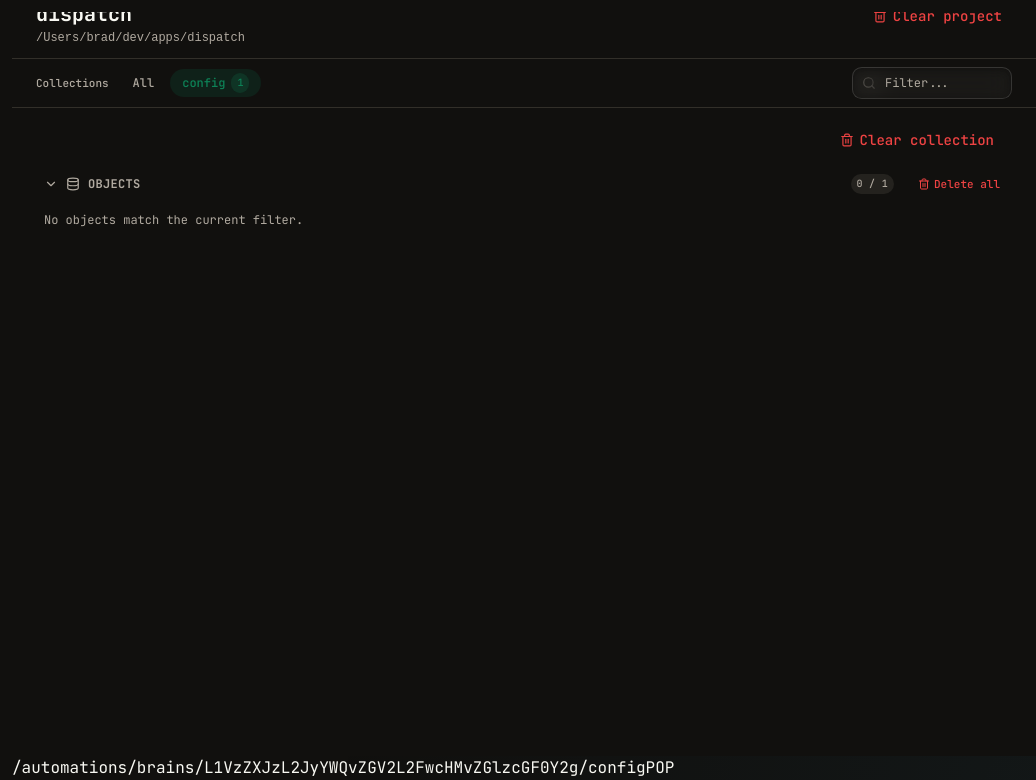
Test: collection pills › returns to the project root from the All pill
(page scrolled)
Click the button "All" at (143, 83), box [121,71,166,95]
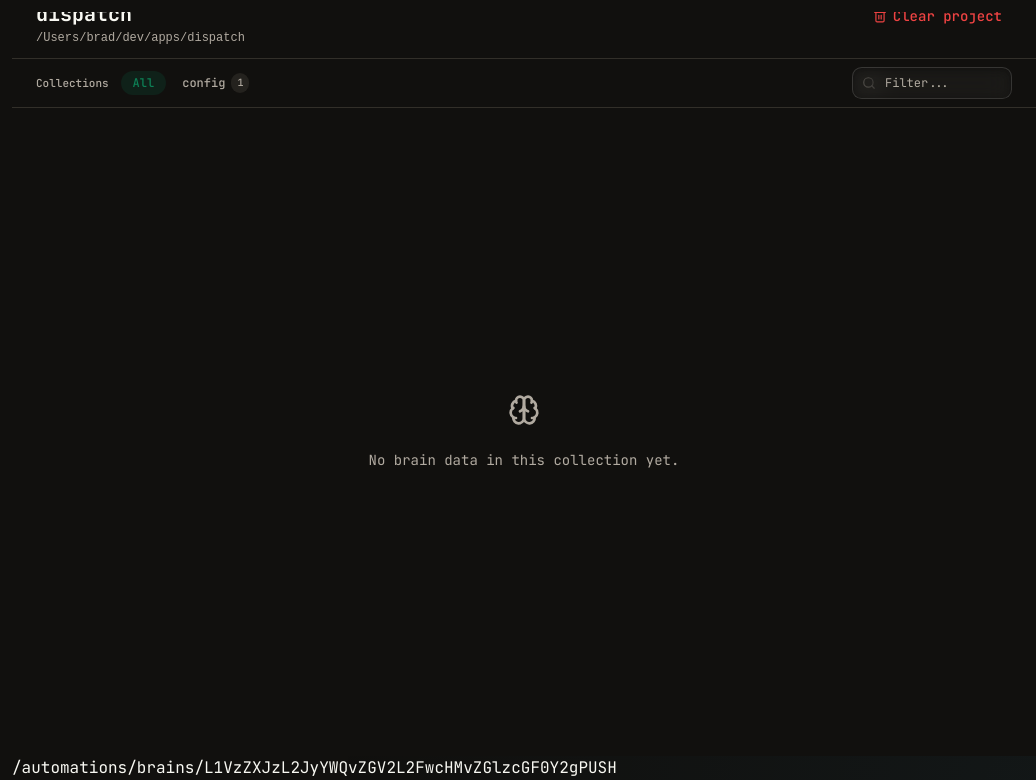
Expected: the text with test id "navigation-type" reads "PUSH", [578,757,617,778]
